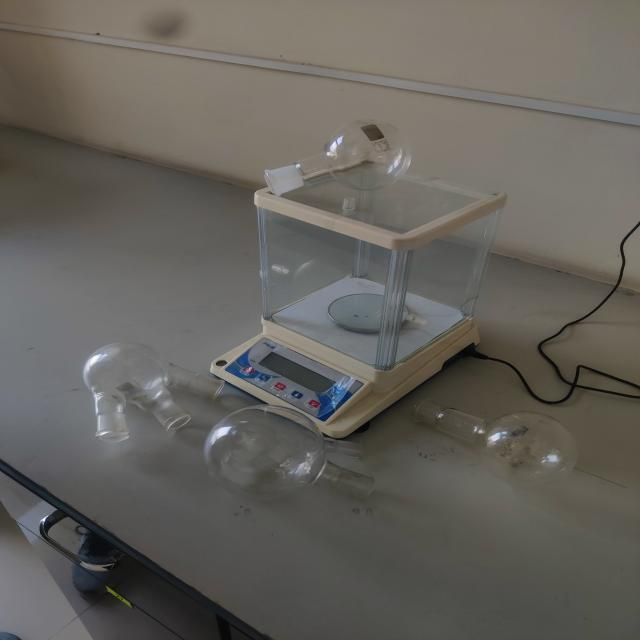Round_Bottom_Flask_Borosilicate_Glass_1_Neck: (393, 375, 615, 500), (240, 94, 436, 218)
Round_Bottom_Flask_Borosilicate_Glass_2_Neck: (188, 386, 410, 529)
Round_Bottom_Flask_Borosilicate_Glass_3_Neck: (48, 319, 244, 464)
